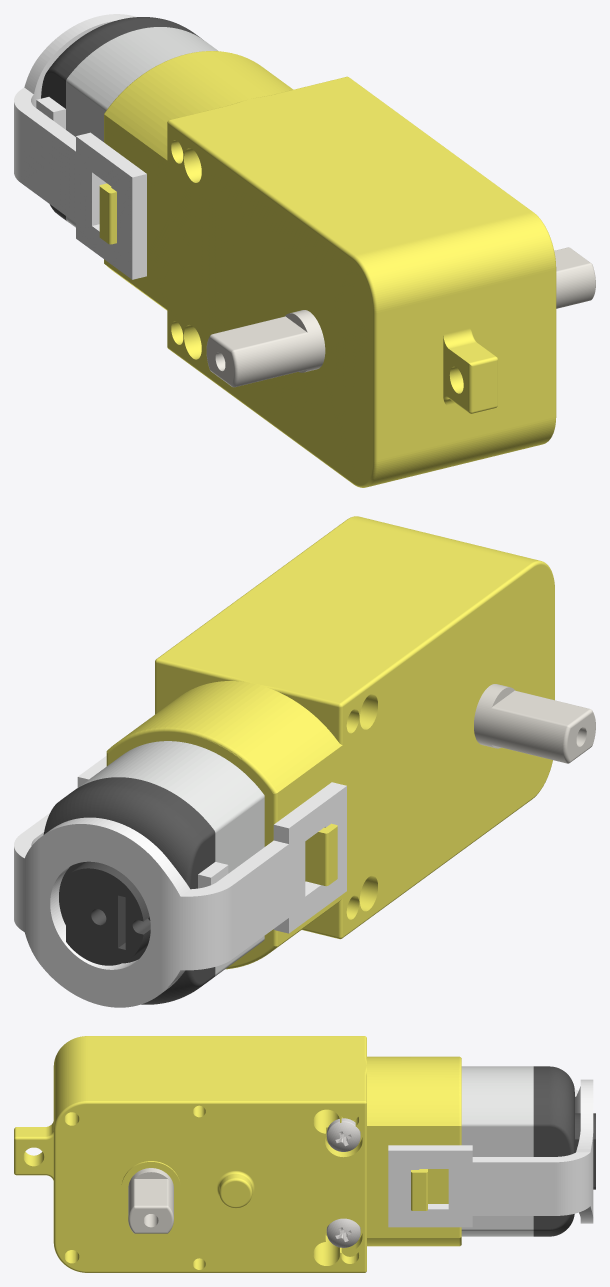
File: DC Geared Motor.glb
The picture shows the model from 3 angles, top to bottom: view 1: azimuth 30°, elevation 25°; view 2: azimuth 150°, elevation 25°; view 3: azimuth 270°, elevation 25°; orthographic projection. The views are drawn at different scales.
Parts seen in each view (by area): view 1: Node1, Node2, Node3, Node4, Node5; view 2: Node1, Node2, Node5, Node4, Node3; view 3: Node1, Node2, Node4, Node5, Node3, Node6.
Boxes of the visible parts, <box> form: Node1: <box>99,51,556,487</box>; Node2: <box>14,14,146,279</box>; Node3: <box>206,247,595,387</box>; Node4: <box>66,27,218,227</box>; Node5: <box>41,17,201,220</box>; Node1: <box>106,516,554,969</box>; Node2: <box>14,756,346,1007</box>; Node5: <box>43,777,215,1004</box>; Node4: <box>76,741,264,976</box>; Node3: <box>474,684,595,763</box>; Node1: <box>14,1036,461,1272</box>; Node2: <box>388,1079,593,1227</box>; Node4: <box>461,1066,533,1236</box>; Node5: <box>533,1066,595,1236</box>; Node3: <box>128,1168,173,1233</box>; Node6: <box>326,1118,360,1247</box>.
Bounding box in the file's own units: 36.95 × 22.4 × 68.75.
